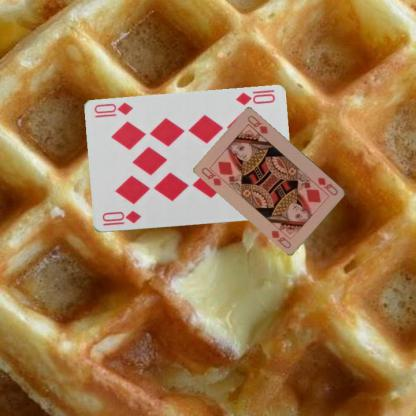10d: (100, 208, 142, 227), (233, 90, 276, 107)
Qd: (198, 165, 228, 187), (316, 174, 339, 197)
